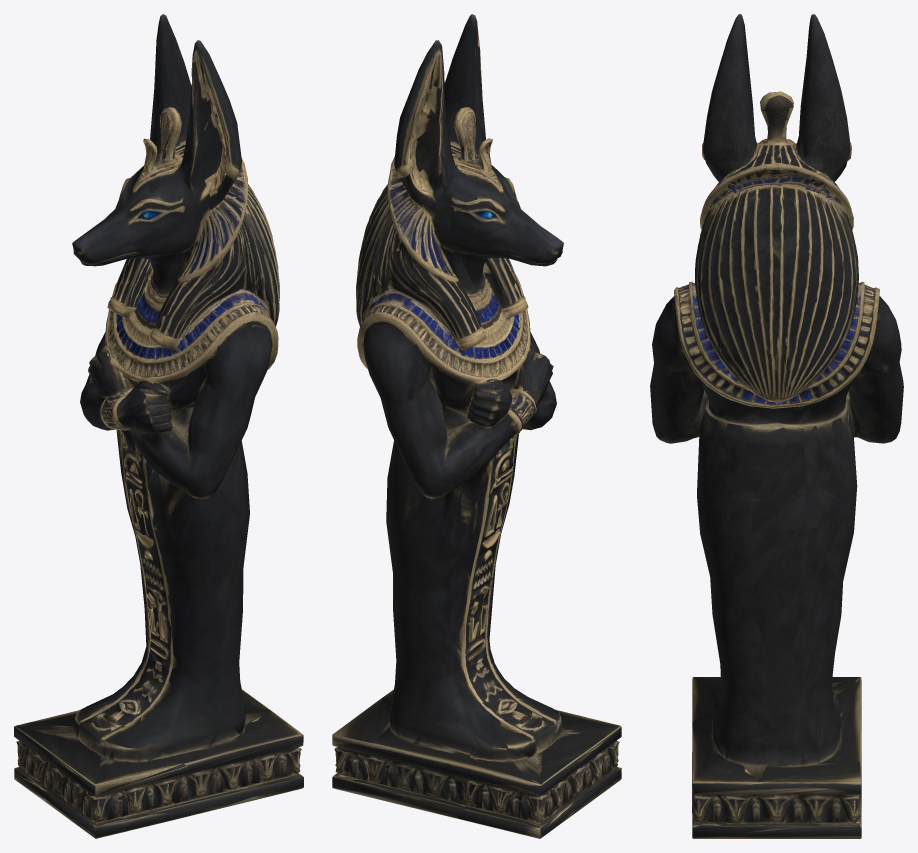
The model's file is dust_anubis.fbx.
The picture shows the model from 3 angles, left to right: view 1: azimuth 30°, elevation 25°; view 2: azimuth 150°, elevation 25°; view 3: azimuth 270°, elevation 25°; orthographic projection. The views are drawn at different scales.
Parts seen in each view (by area): view 1: dust_anubis.001; view 2: dust_anubis.001; view 3: dust_anubis.001.
Part boxes in pixels (bbox=[...]): dust_anubis.001: bbox=[14, 14, 303, 838]; dust_anubis.001: bbox=[332, 14, 621, 838]; dust_anubis.001: bbox=[650, 14, 903, 838].
Size of the model in its own units: 22092 by 22316 by 76000.
